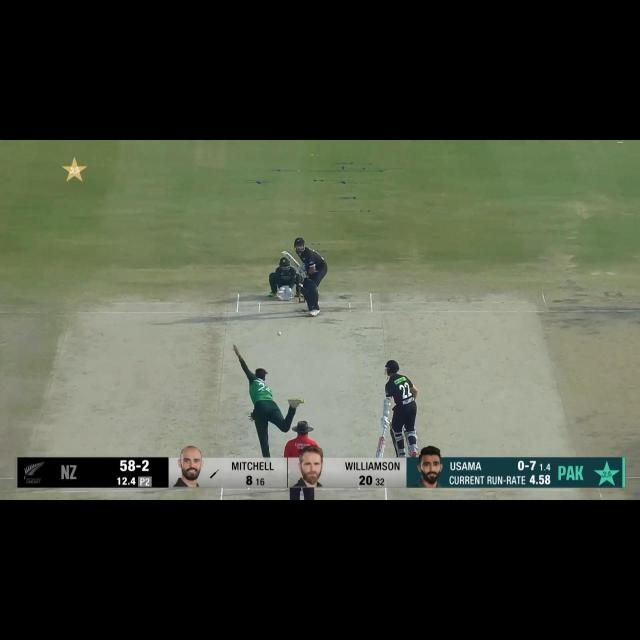bat: (282, 251, 300, 267), (375, 436, 387, 458)
toe: (280, 250, 288, 256)
